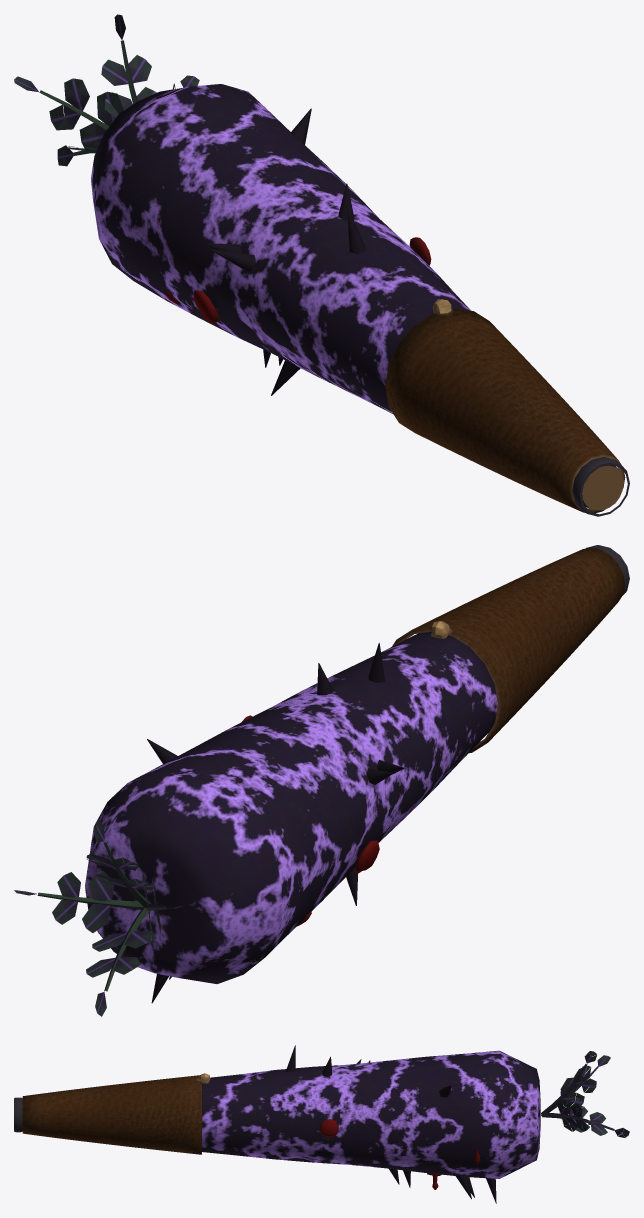
Rendered from melee_shadow_carrot.glb.
3 views of the same model, one above another, from view 1: azimuth 30°, elevation 25°; view 2: azimuth 150°, elevation 25°; view 3: azimuth 270°, elevation 25° (orthographic). The views are drawn at different scales.
Visible parts, largest first — view 1: melee_shadow_carrot; view 2: melee_shadow_carrot; view 3: melee_shadow_carrot.
Part boxes in pixels (<box>): melee_shadow_carrot: <box>14,14,629,516</box>; melee_shadow_carrot: <box>14,545,629,1016</box>; melee_shadow_carrot: <box>14,1045,629,1203</box>.
Bounding box in the file's own units: 0.0919 × 0.112 × 0.4324.
Materials: 1 (1 with a texture image).
